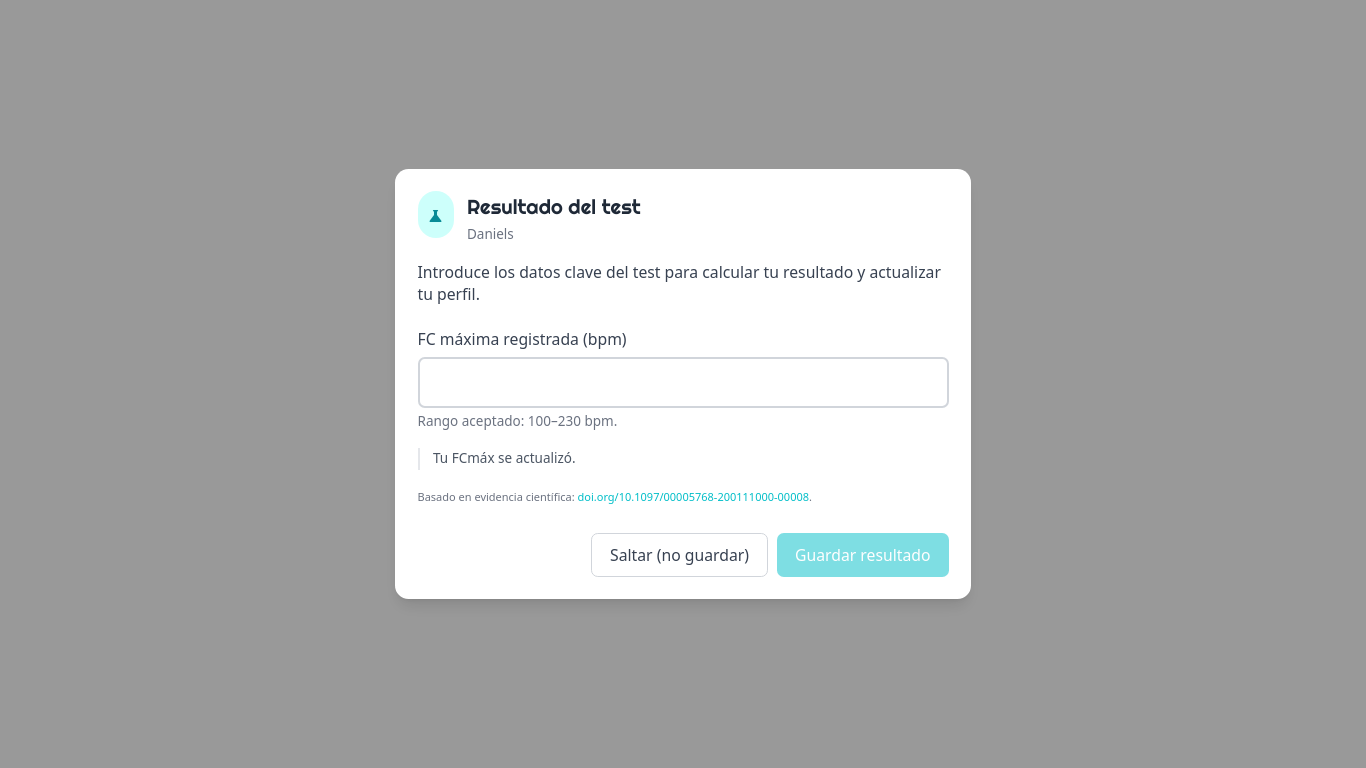
it: TestResultDialog › al introducir un input valido aparece el bloque "Tu resultado"
Type "192" into the number field labelled "FC máxima registrada (bpm) Rango aceptado: 100–230 bpm." at (683, 382), box [418, 357, 948, 408]
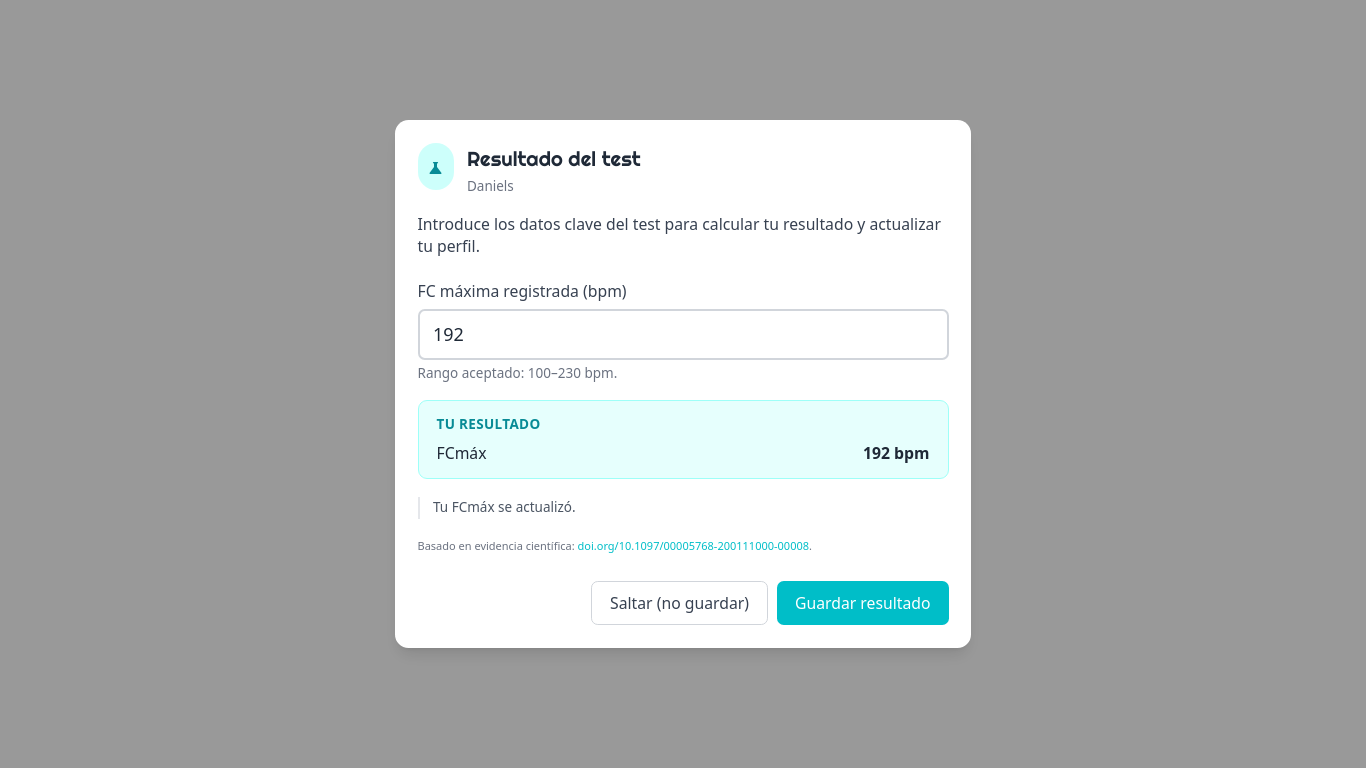
Now the text "Tu resultado" is shown, box [436, 415, 540, 433]
Now the text "192 bpm" is shown, box [863, 442, 930, 464]
